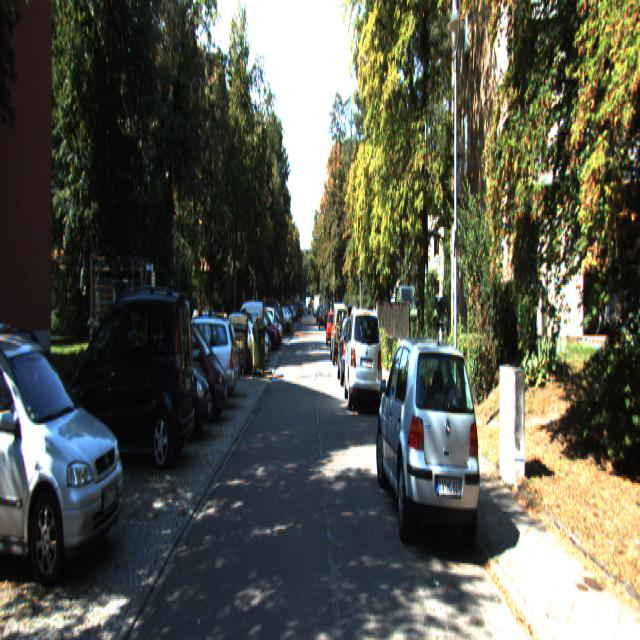Car: (0, 315, 131, 583), (373, 325, 484, 564), (62, 275, 196, 469), (114, 317, 213, 446), (152, 310, 239, 412), (344, 304, 384, 416), (230, 300, 264, 362), (336, 315, 366, 385), (331, 306, 350, 365)
